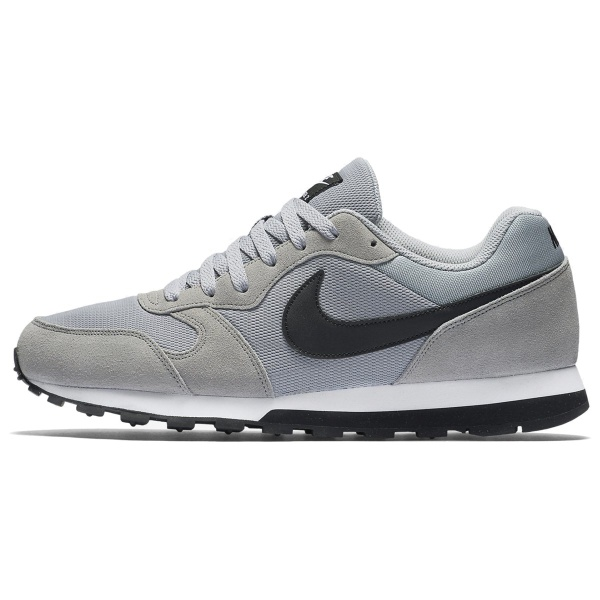nike: (278, 267, 561, 372)
